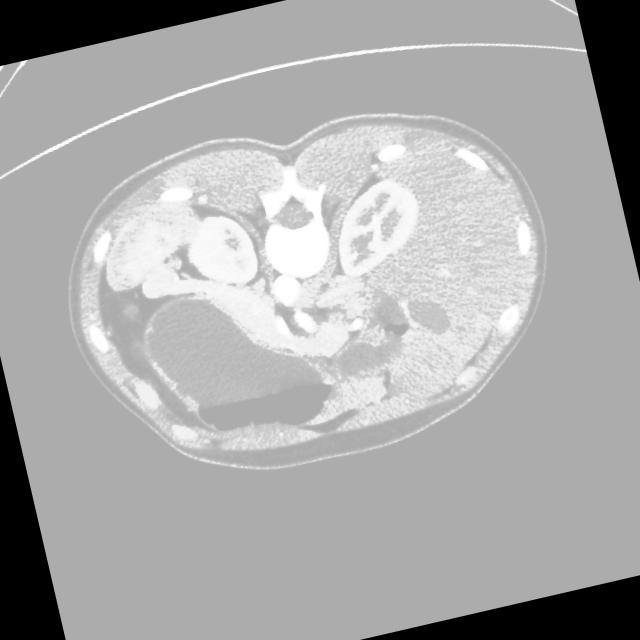NORMAL: (19, 34, 620, 552)
